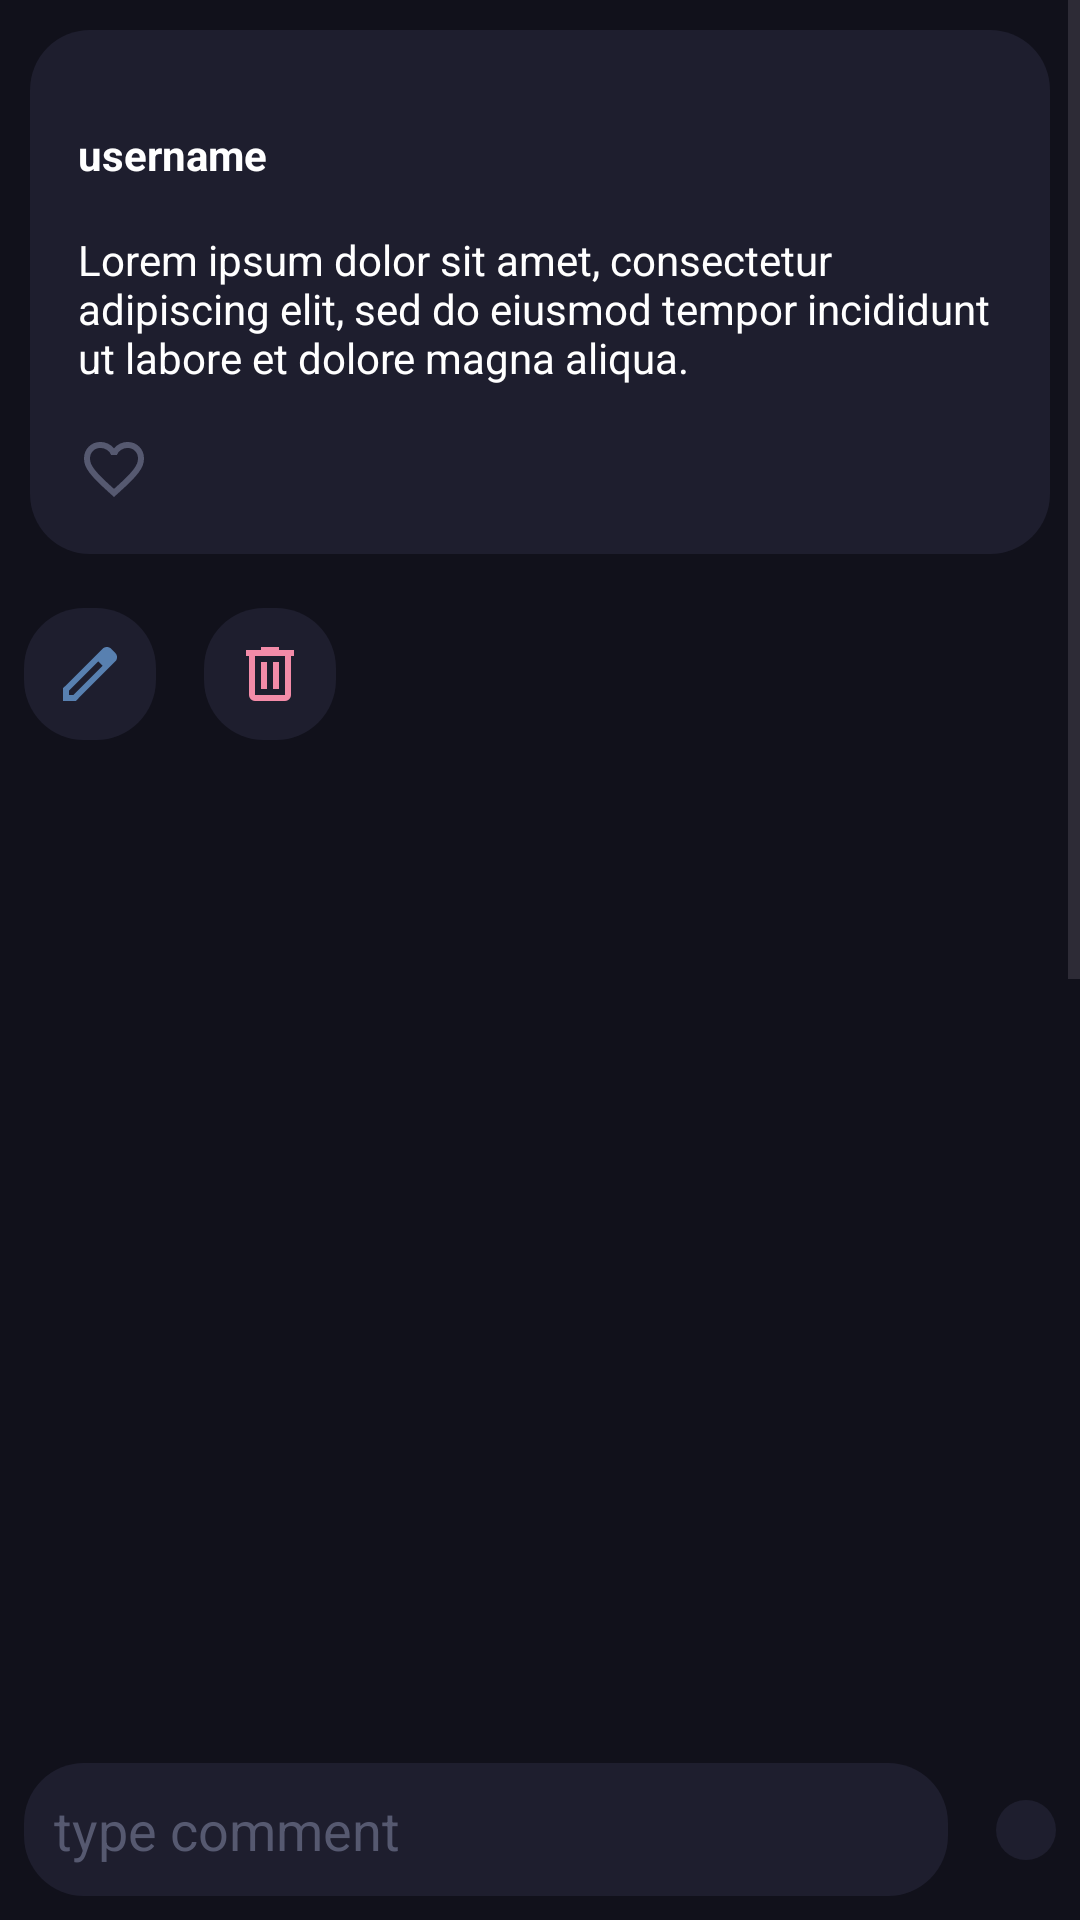

Icons on this 1080*1920 Android screen, each with the point to tap as (x,y):
delete: (270,674)
edit: (90,674)
favorite: (114,469)
